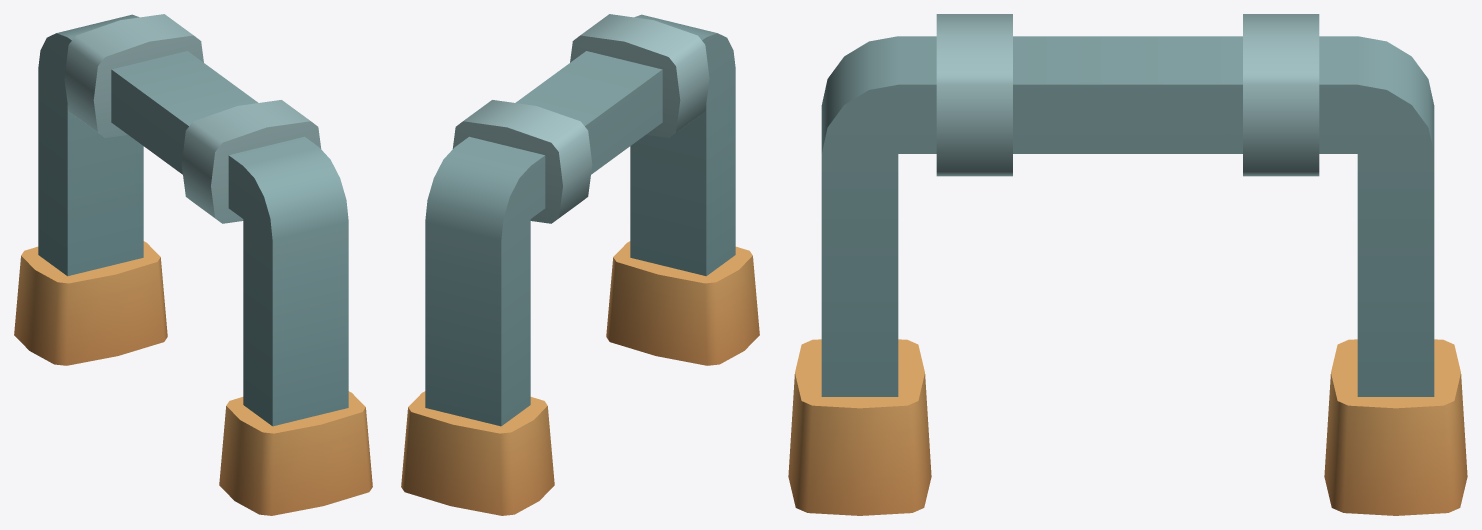
Rendered from scanner-high.glb.
3 renders of one model, left to right at view 1: azimuth 30°, elevation 25°; view 2: azimuth 150°, elevation 25°; view 3: azimuth 270°, elevation 25°, orthographic. The views are drawn at different scales.
Visible parts, largest first — view 1: scanner-high; view 2: scanner-high; view 3: scanner-high.
Part boxes in pixels (box(x1,y1,x2,y2)): scanner-high: box(14, 14, 372, 515); scanner-high: box(401, 14, 759, 515); scanner-high: box(788, 14, 1467, 515).
Bounding box in the file's own units: 0.484 × 1.27 × 1.77.
Materials: 1 (1 with a texture image).
